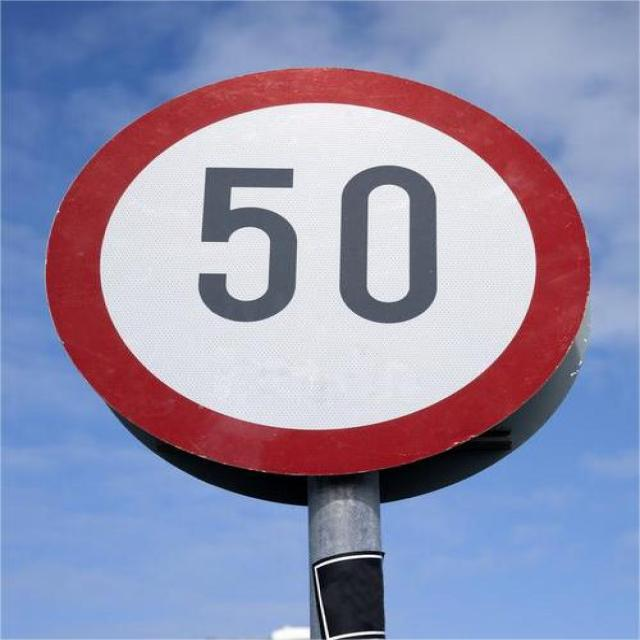speed limit 50: (41, 66, 590, 477)
